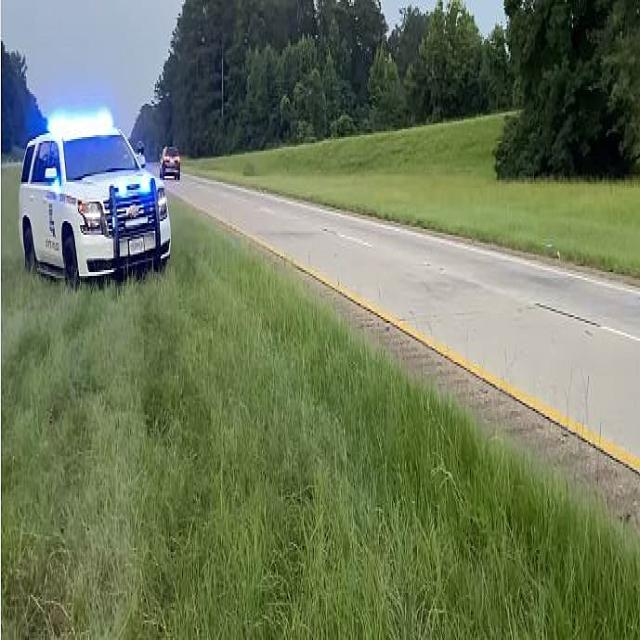cop: (18, 111, 174, 290)
